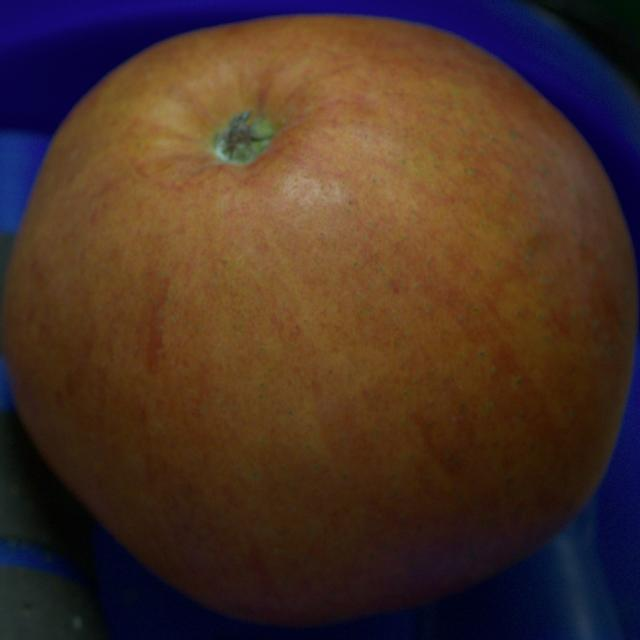apple: (2, 17, 638, 626)
